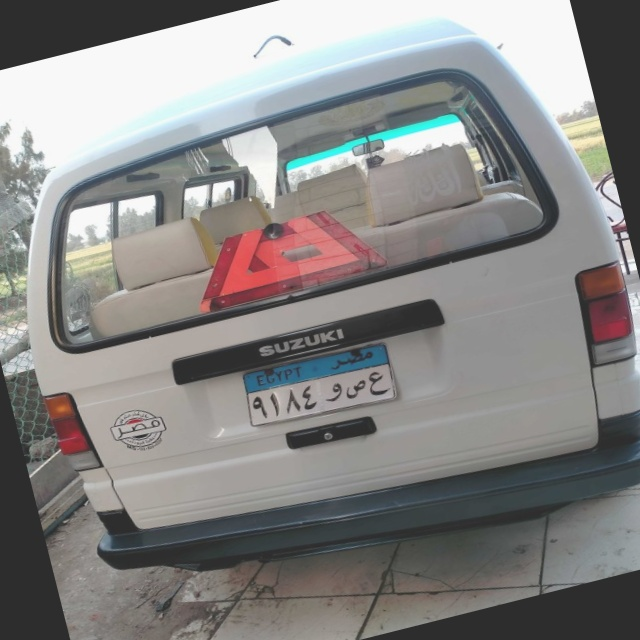License Plate: (233, 335, 404, 438)
